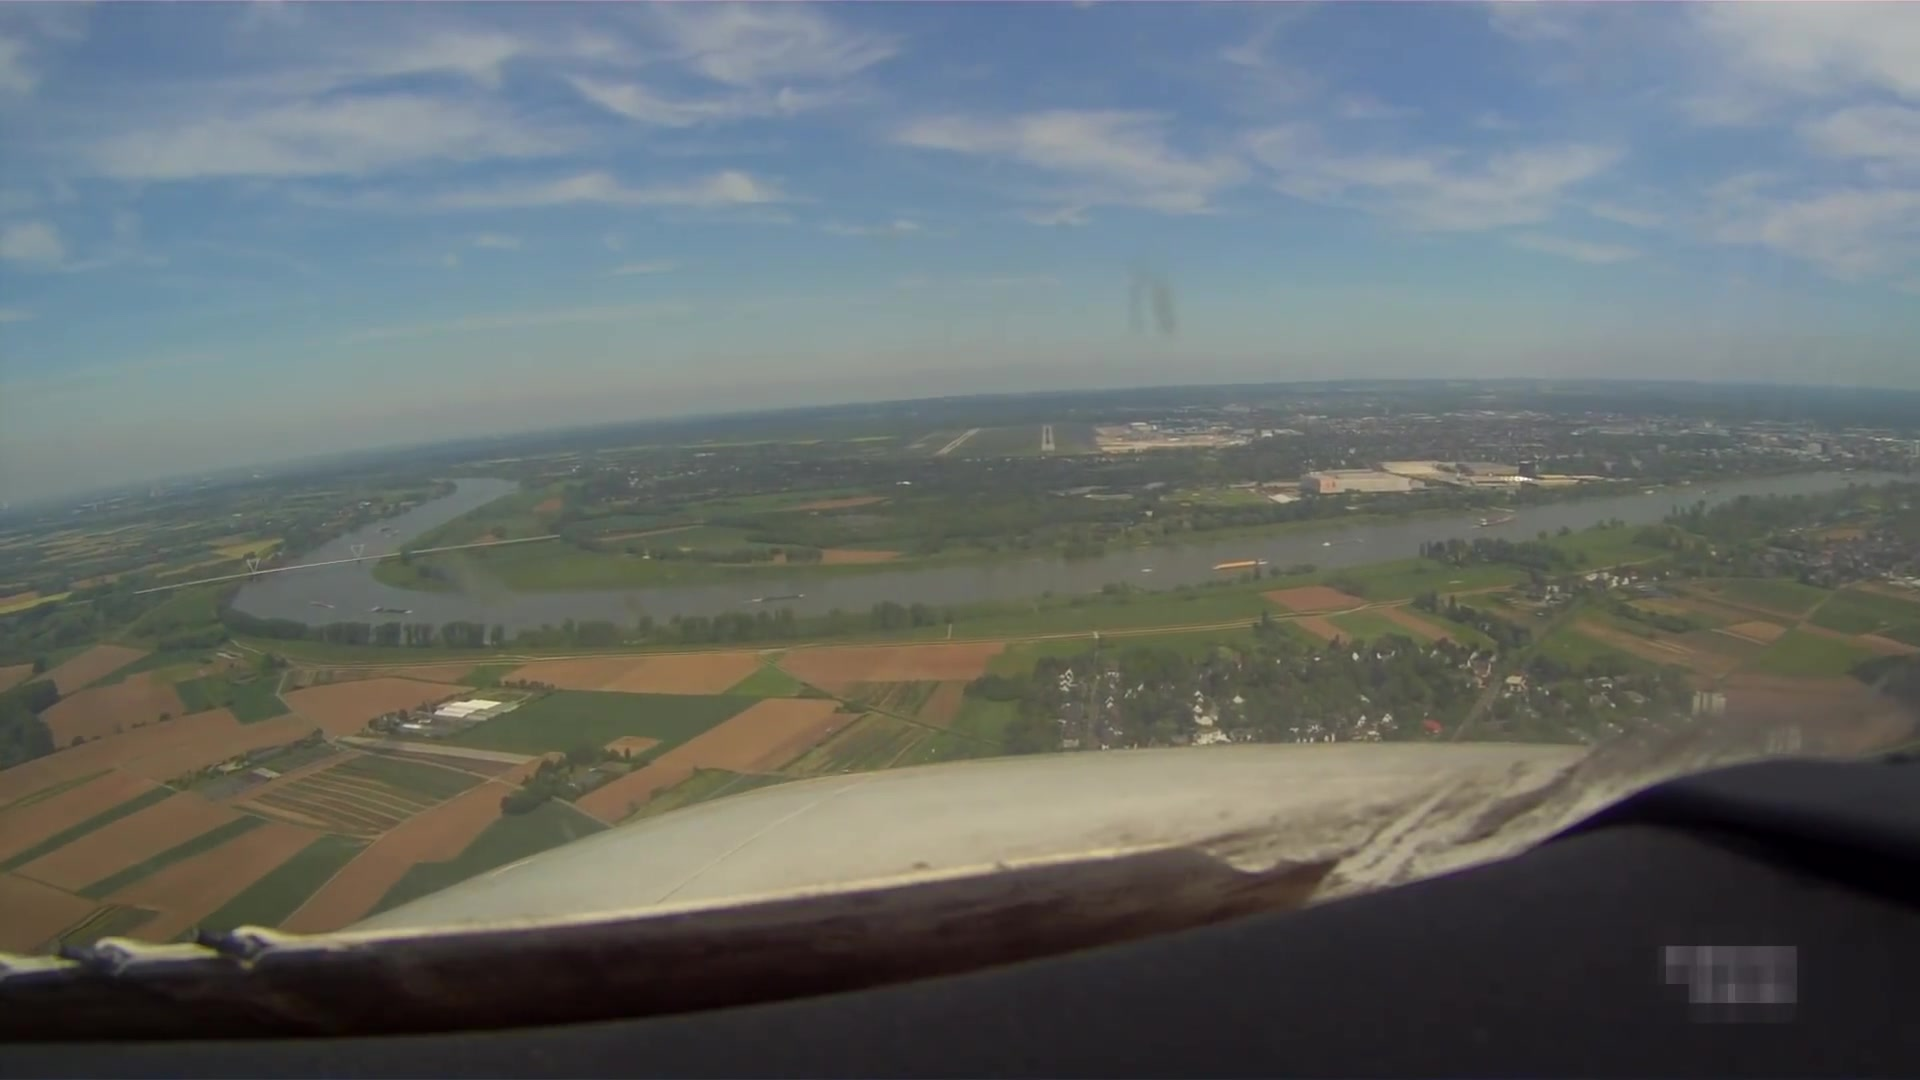runway: (934, 427, 978, 456), (1040, 422, 1055, 452)
